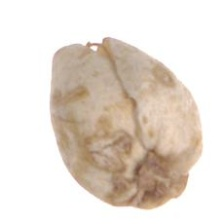L1: (127, 152, 188, 210), (54, 35, 115, 60)
L2: (50, 38, 203, 209)
